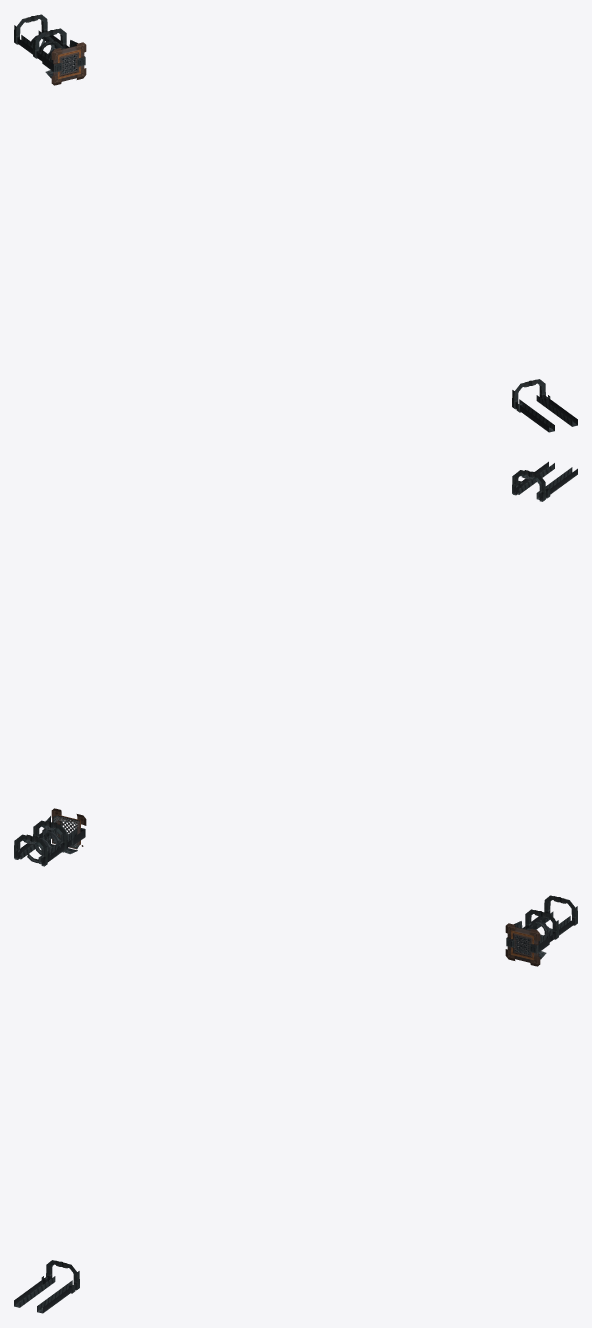
File: model_start.glb
3 renders of one model, top to bottom at view 1: azimuth 30°, elevation 25°; view 2: azimuth 150°, elevation 25°; view 3: azimuth 330°, elevation 25°, orthographic.
Parts seen in each view (by area): view 1: univeral.model_start-MeshNodes["mesh_uprail"], univeral.model_start-MeshNodes["mesh_lowershaft"], univeral.model_start-MeshNodes["mesh_base"]; view 2: univeral.model_start-MeshNodes["mesh_lowershaft"], univeral.model_start-MeshNodes["mesh_uprail"]; view 3: univeral.model_start-MeshNodes["mesh_uprail"], univeral.model_start-MeshNodes["mesh_lowershaft"], univeral.model_start-MeshNodes["mesh_base"].
Boxes of the visible parts, <box> form: univeral.model_start-MeshNodes["mesh_uprail"]: <box>512,379,577,432</box>; univeral.model_start-MeshNodes["mesh_lowershaft"]: <box>14,14,69,61</box>; univeral.model_start-MeshNodes["mesh_base"]: <box>42,40,86,85</box>; univeral.model_start-MeshNodes["mesh_lowershaft"]: <box>14,820,72,866</box>; univeral.model_start-MeshNodes["mesh_uprail"]: <box>512,461,577,501</box>; univeral.model_start-MeshNodes["mesh_uprail"]: <box>14,1260,79,1313</box>; univeral.model_start-MeshNodes["mesh_lowershaft"]: <box>522,895,577,942</box>; univeral.model_start-MeshNodes["mesh_base"]: <box>505,921,549,966</box>.
Size of the model in its own units: 4.5 by 4.83 by 120.
2 materials, 2 textured.
